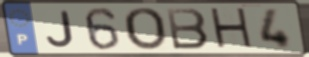4: (257, 7, 296, 51)
6: (82, 6, 122, 52)
B: (164, 7, 212, 51)
H: (207, 6, 257, 52)
J: (44, 9, 76, 49)
O: (121, 6, 168, 52)
